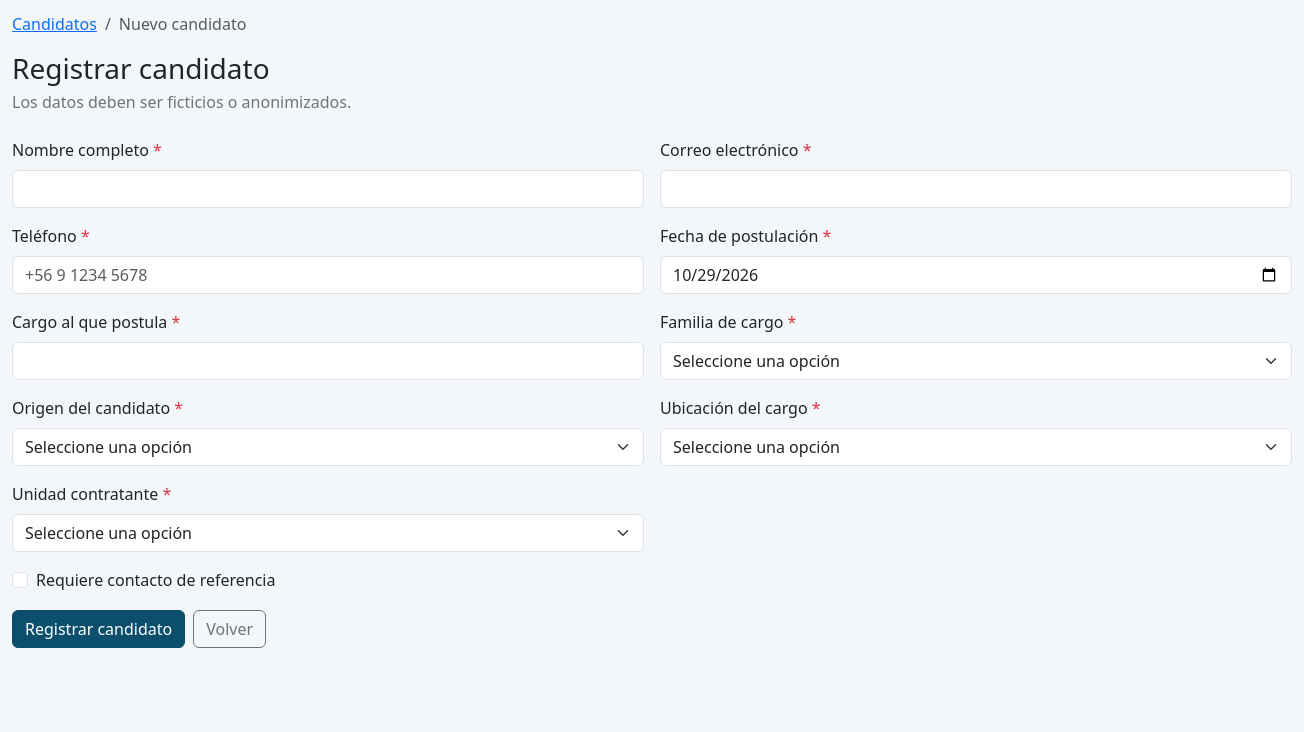
CandidatoFormPage › muestra errores al enviar el formulario vacío
Click the button "Registrar candidato" at (99, 629), box x1=12 y1=610 x2=185 y2=648
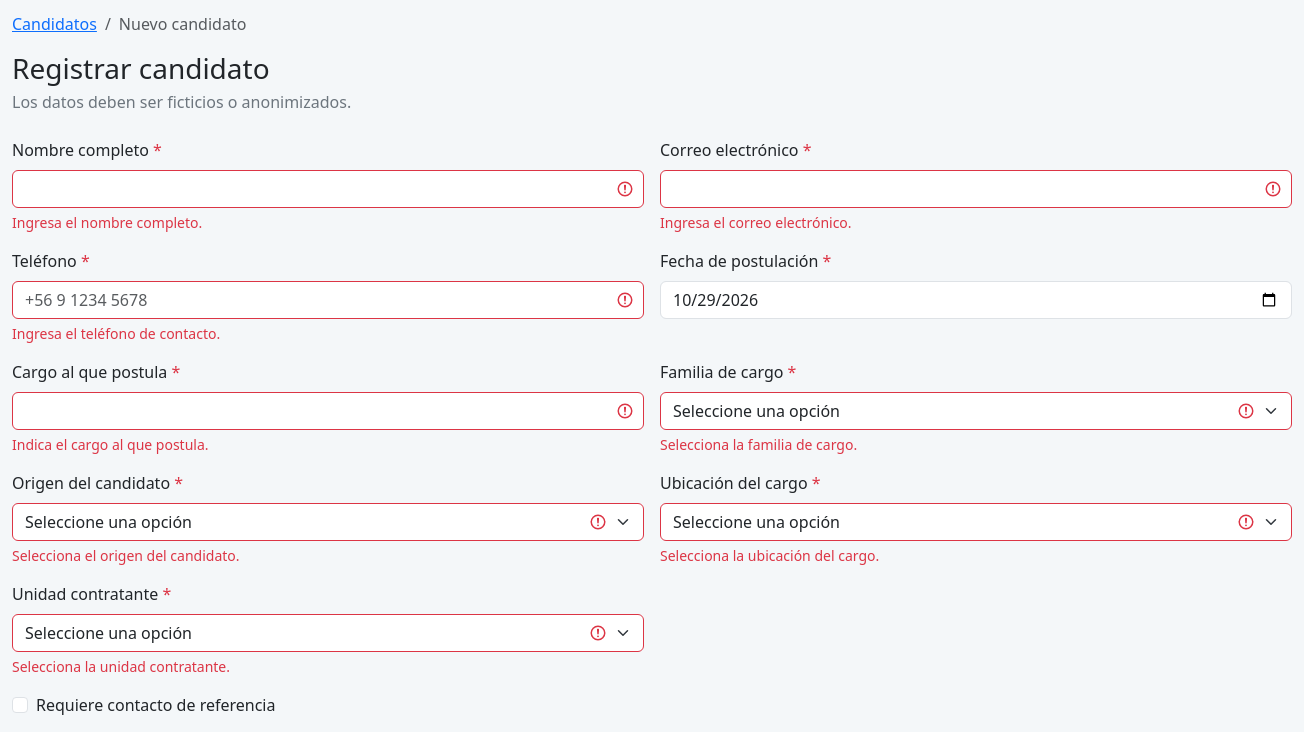
Expected: the text "Ingresa el nombre completo." is shown, x1=12 y1=213 x2=202 y2=232
Expected: the text "Ingresa el correo electrónico." is shown, x1=660 y1=213 x2=852 y2=232
